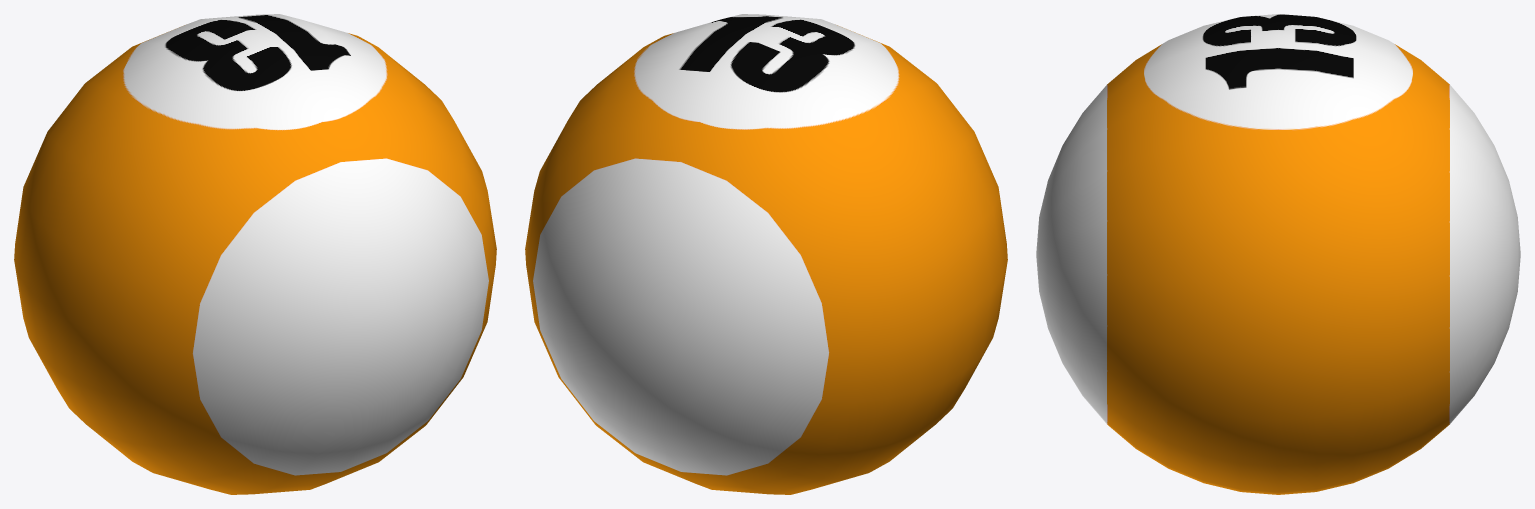
The model's file is ball13.fbx.
3 renders of one model, left to right at view 1: azimuth 30°, elevation 25°; view 2: azimuth 150°, elevation 25°; view 3: azimuth 270°, elevation 25°, orthographic.
Visible parts, largest first — view 1: pSphere1; view 2: pSphere1; view 3: pSphere1.
Boxes of the visible parts, x1,y1,x2,y2 form: pSphere1: (14,14,496,494); pSphere1: (525,14,1007,494); pSphere1: (1036,14,1520,494).
Bounding box in the file's own units: 2 × 2 × 2.
